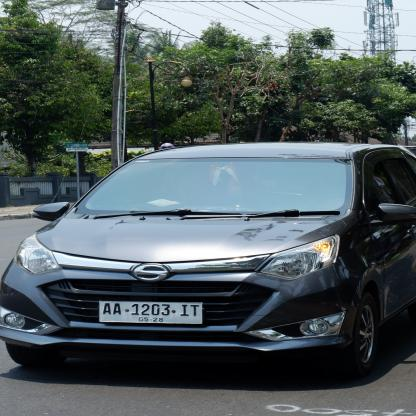Plat-Nomor: (98, 300, 205, 326)
